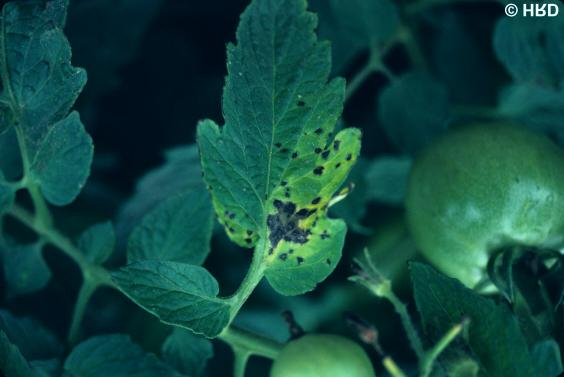Tomato Early blight leaf: (211, 9, 355, 297)
